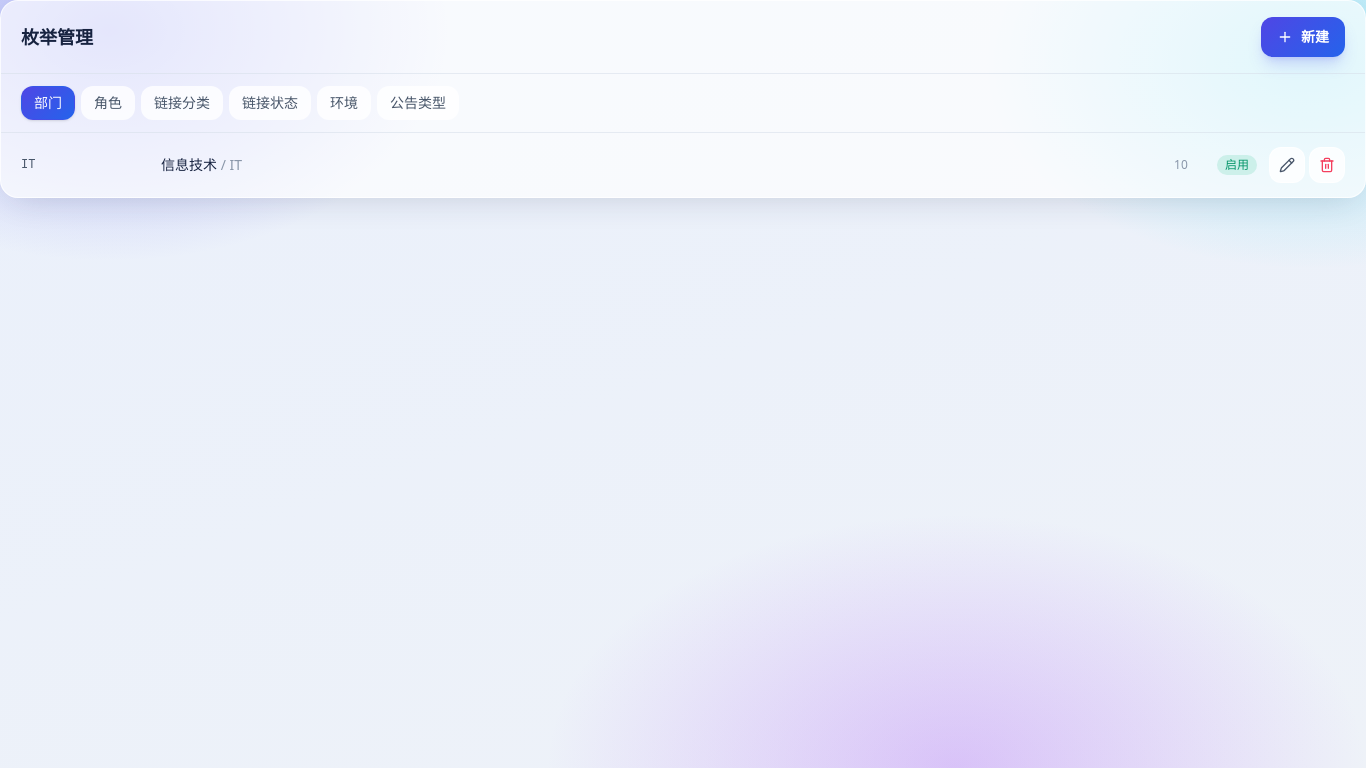
Test case: EnumsAdminView › 默认载入部门;切到角色 tab 载入角色
Click the button "角色": (108,103) [81,86,135,120]
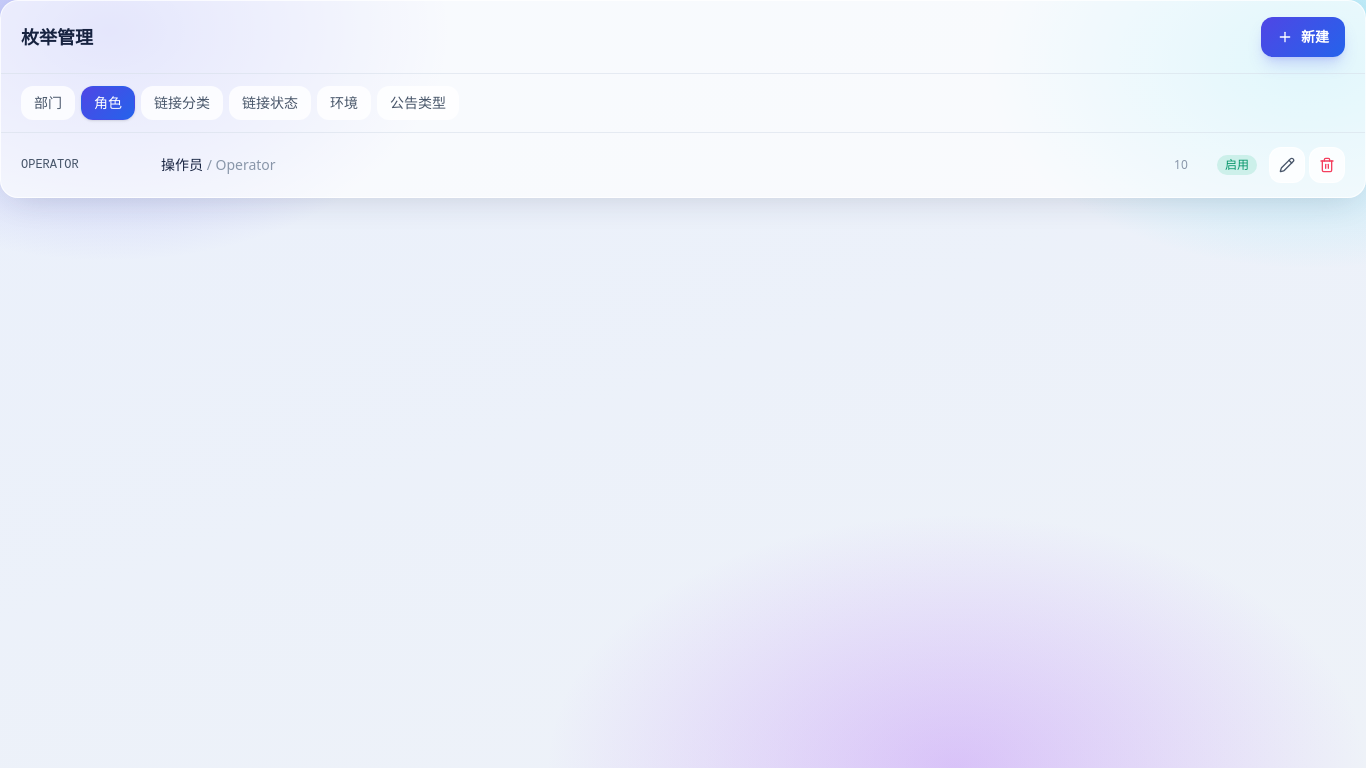
Check: the text "操作员" is shown, box [161,155,207,174]
